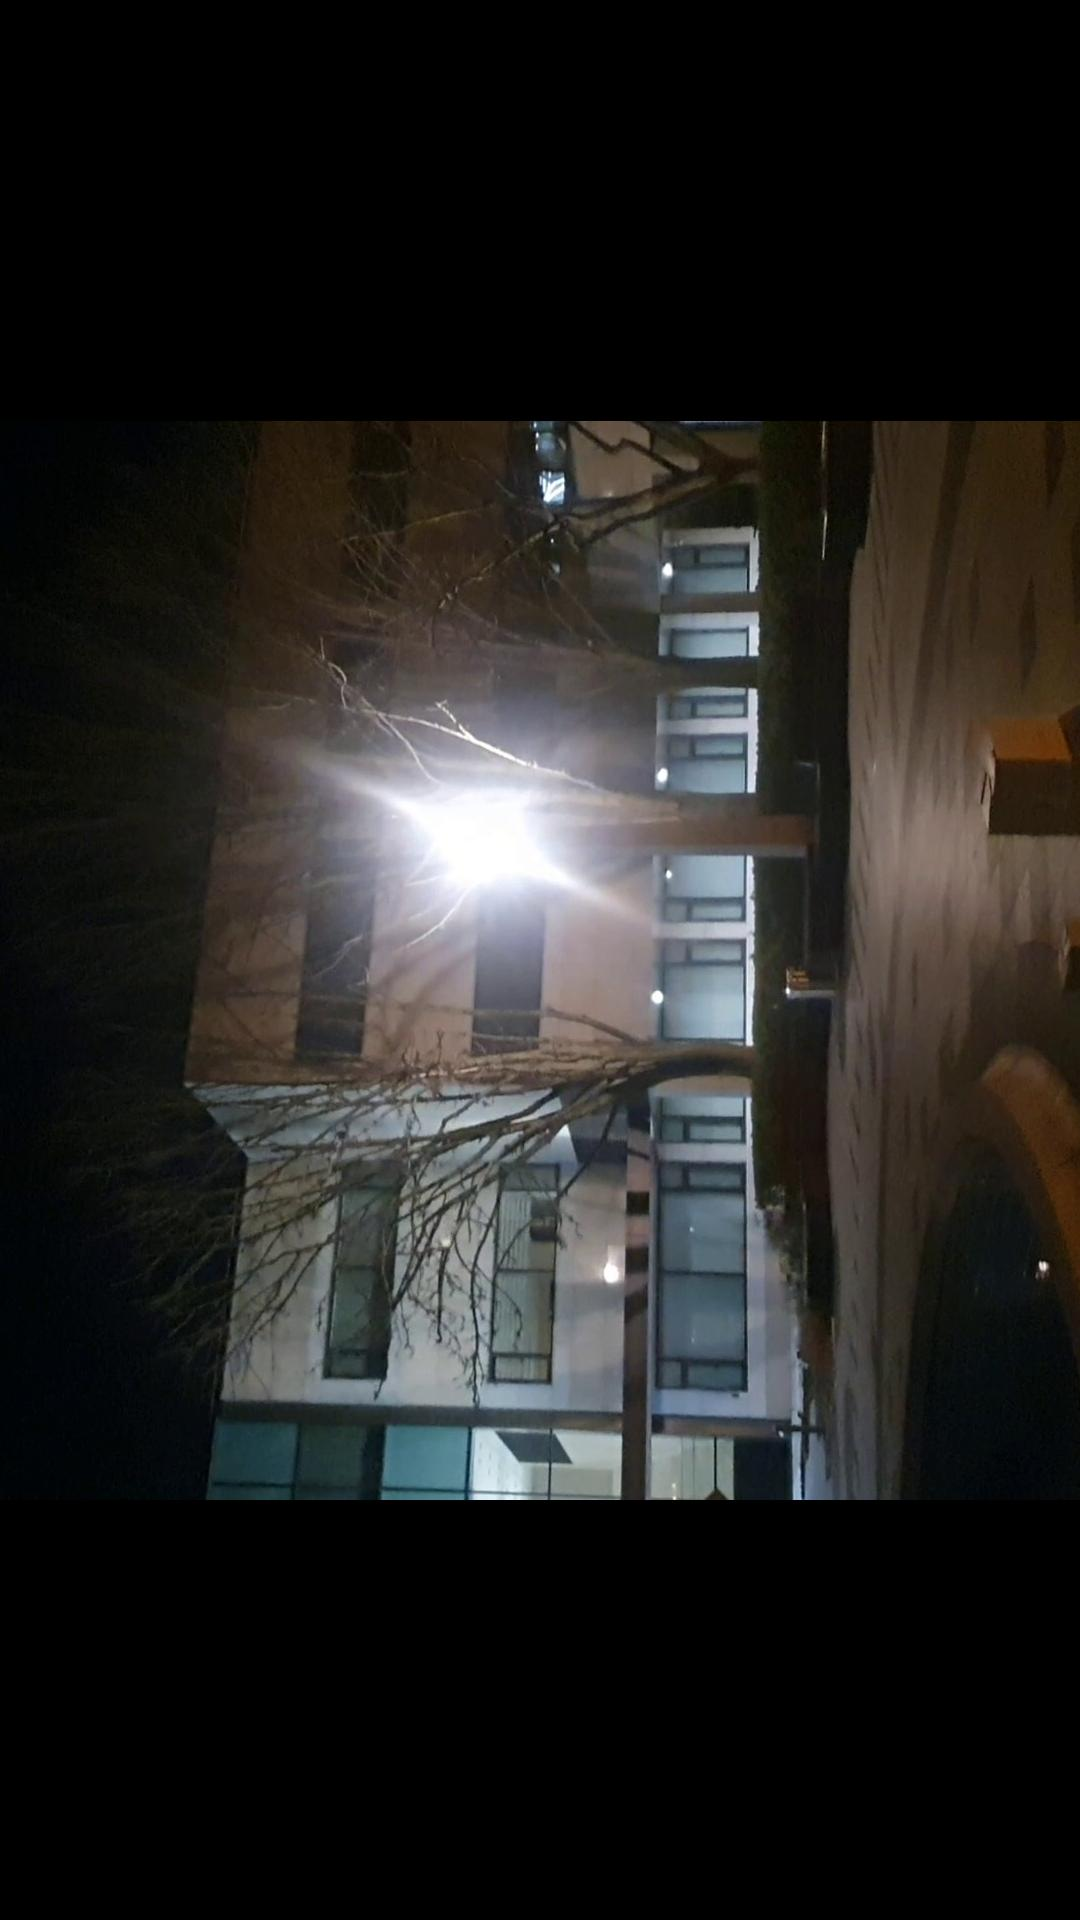Box: (971, 715, 1080, 849), (1044, 913, 1080, 986)
